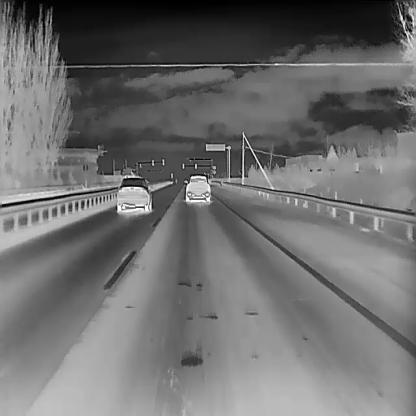car: (116, 174, 153, 210), (183, 173, 211, 201)
truck: (121, 165, 142, 184)
